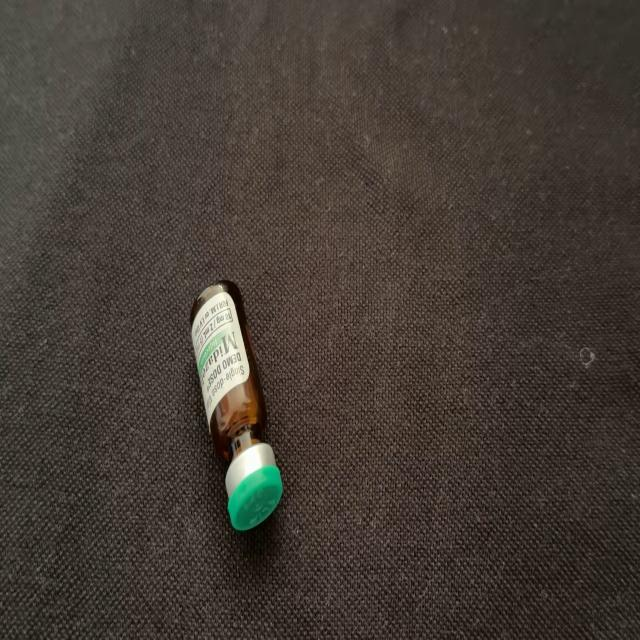midazolm: (192, 284, 281, 527)
